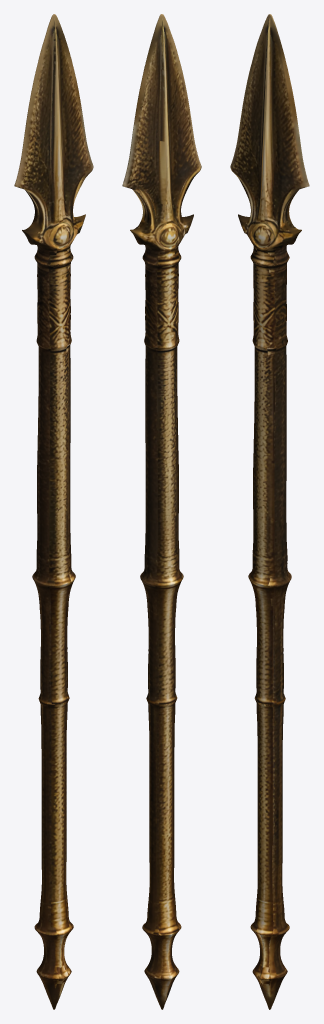
Rendered from achilles-spear.optimized.glb.
3 renders of one model, left to right at view 1: azimuth 30°, elevation 25°; view 2: azimuth 210°, elevation 25°; view 3: azimuth 330°, elevation 25°, orthographic.
Parts seen in each view (by area): view 1: node_0; view 2: node_0; view 3: node_0.
Boxes of the visible parts, <box> form: node_0: <box>14,14,93,1009</box>; node_0: <box>122,14,201,1009</box>; node_0: <box>230,14,309,1009</box>.
Size of the model in its own units: 0.0997 by 1.2 by 0.0462.
Materials: 1 (1 with a texture image).
